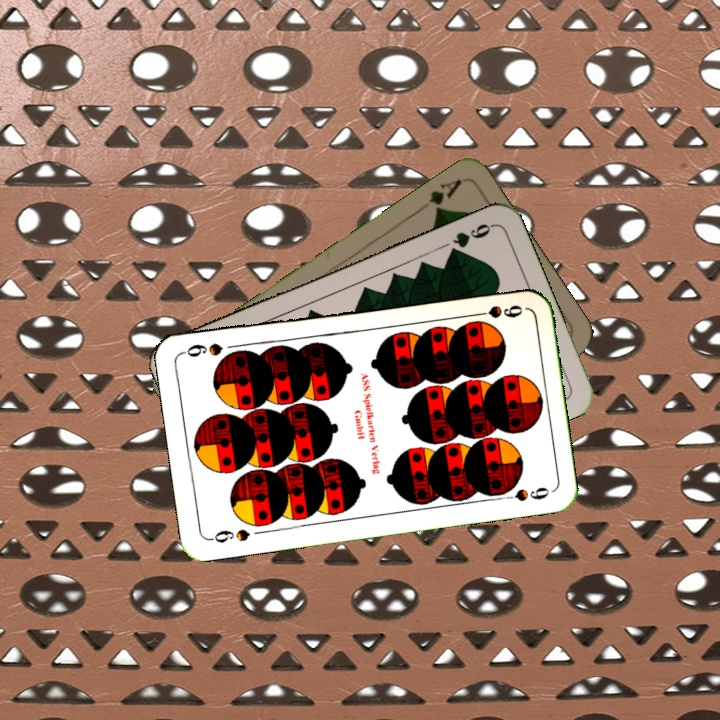G9: (444, 219, 496, 259)
GA: (413, 174, 465, 216)
S9: (467, 300, 525, 321), (205, 525, 252, 545)
